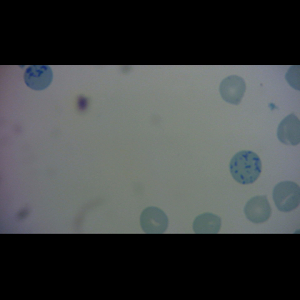aggregate reticulocyte: (228, 149, 263, 186), (23, 65, 55, 92)
erythrocyte: (272, 180, 300, 213), (243, 194, 273, 224), (275, 112, 300, 147), (138, 206, 169, 233)
punctate reticulocyte: (218, 74, 248, 107)
